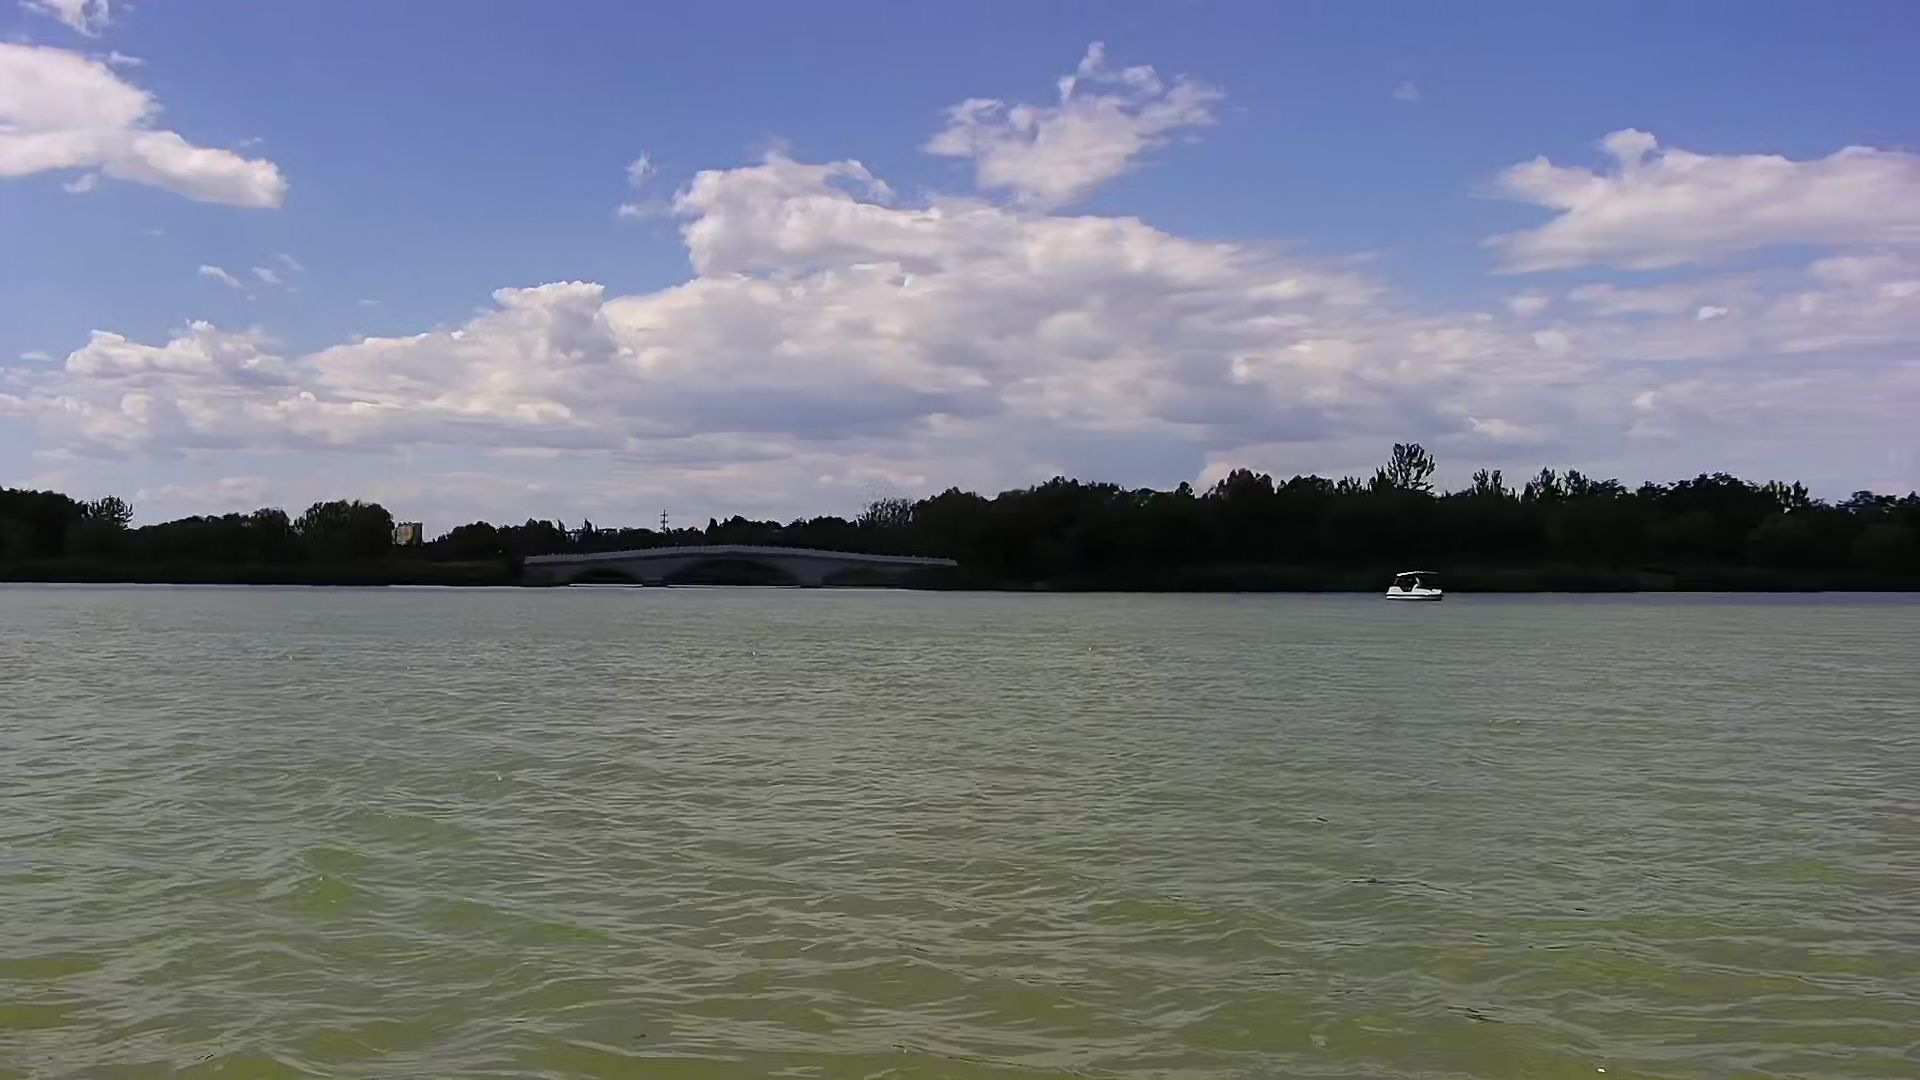boat: (1383, 566, 1453, 611)
bridge: (520, 539, 975, 596)
